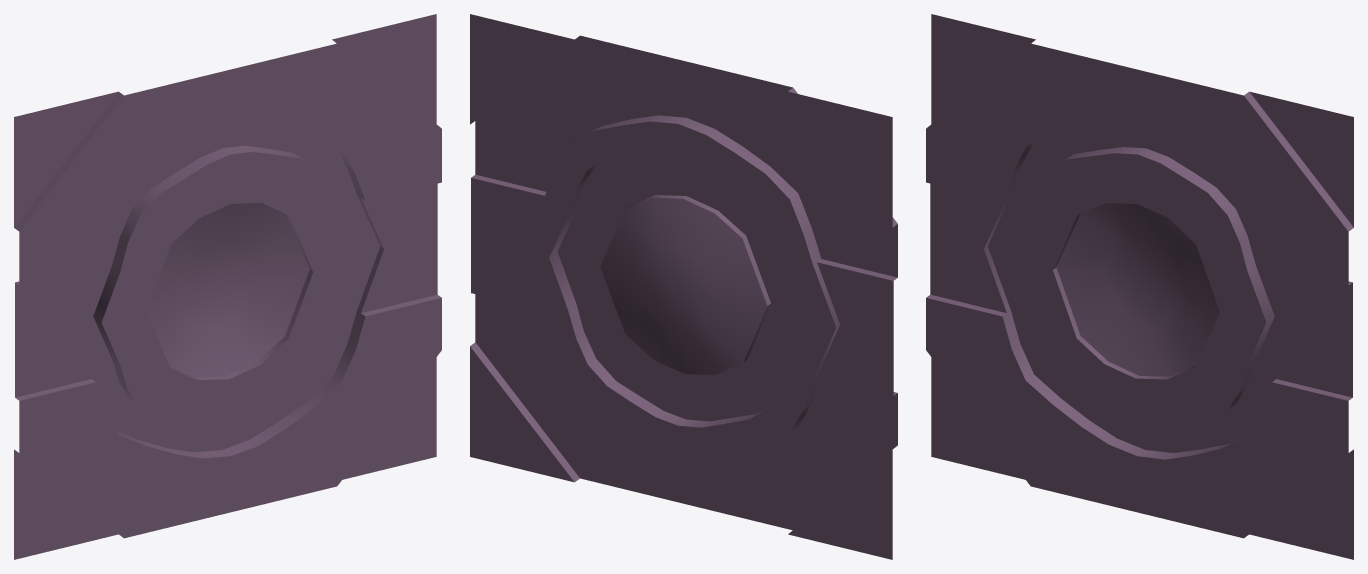
Rendered from Door_3.fbx.
3 views of the same model, side by side, from view 1: azimuth 30°, elevation 25°; view 2: azimuth 150°, elevation 25°; view 3: azimuth 330°, elevation 25° (orthographic).
Parts seen in each view (by area): view 1: Door_3; view 2: Door_3; view 3: Door_3.
Boxes of the visible parts, x1,y1,x2,y2 form: Door_3: [14, 14, 441, 559]; Door_3: [470, 14, 897, 559]; Door_3: [926, 14, 1353, 559].
Size of the model in its own units: 361 by 361 by 15.3.
